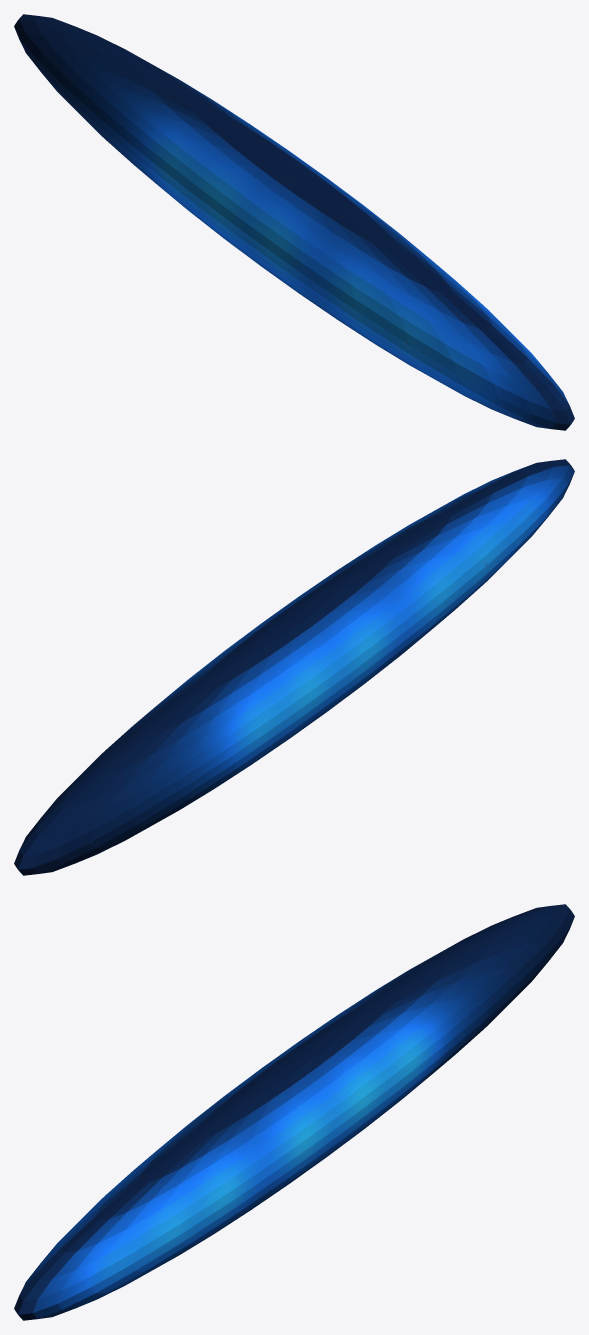
The model's file is bunsenburnerflame2.dae.
The picture shows the model from 3 angles, top to bottom: view 1: azimuth 30°, elevation 25°; view 2: azimuth 150°, elevation 25°; view 3: azimuth 330°, elevation 25°; orthographic projection.
Visible parts, largest first — view 1: Sphere; view 2: Sphere; view 3: Sphere.
Part boxes in pixels (x1,y1,x2,y2): Sphere: [14, 14, 574, 430]; Sphere: [14, 459, 574, 875]; Sphere: [14, 904, 574, 1320].
Bounding box in the file's own units: 2 × 20.03 × 2.
1 material, 1 textured.
